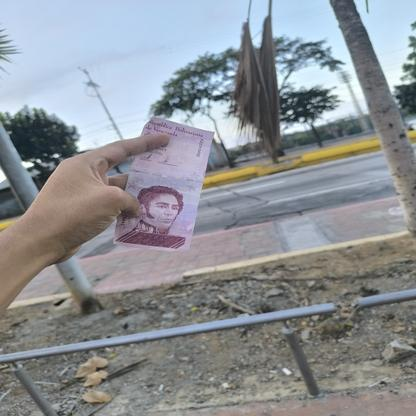one_hundred-front-vef: (112, 116, 215, 252)
